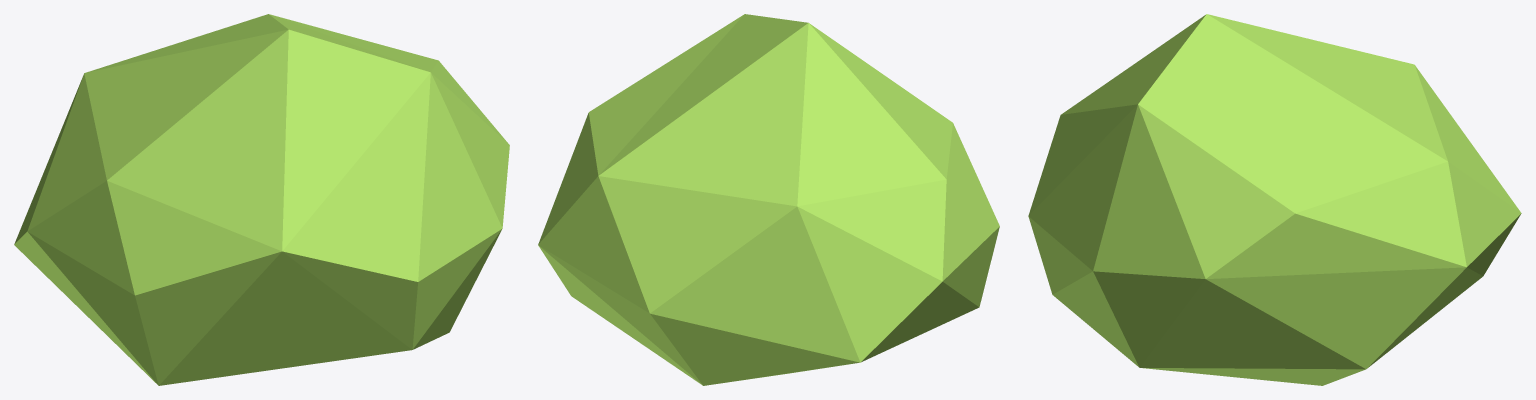
The model's file is Bush2.fbx.
The picture shows the model from 3 angles, left to right: view 1: azimuth 30°, elevation 25°; view 2: azimuth 150°, elevation 25°; view 3: azimuth 270°, elevation 25°; orthographic projection. The views are drawn at different scales.
Visible parts, largest first — view 1: Bush03.001; view 2: Bush03.001; view 3: Bush03.001.
Boxes of the visible parts, x1,y1,x2,y2 form: Bush03.001: [14, 14, 509, 385]; Bush03.001: [538, 14, 999, 385]; Bush03.001: [1028, 14, 1521, 385].
Bounding box in the file's own units: 111 × 87.74 × 116.
